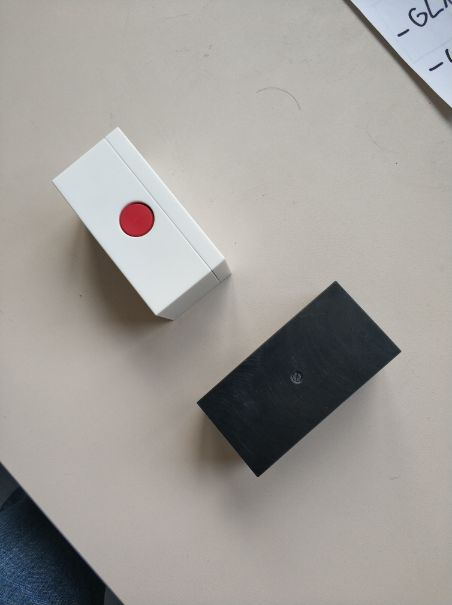white+white+red: (51, 124, 236, 323)
